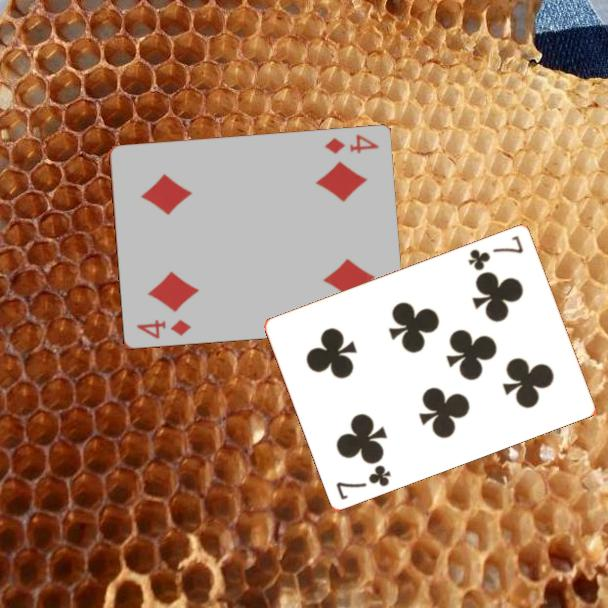c07: (464, 232, 526, 273), (333, 461, 394, 502)
d04: (133, 316, 194, 342), (321, 131, 381, 157)
